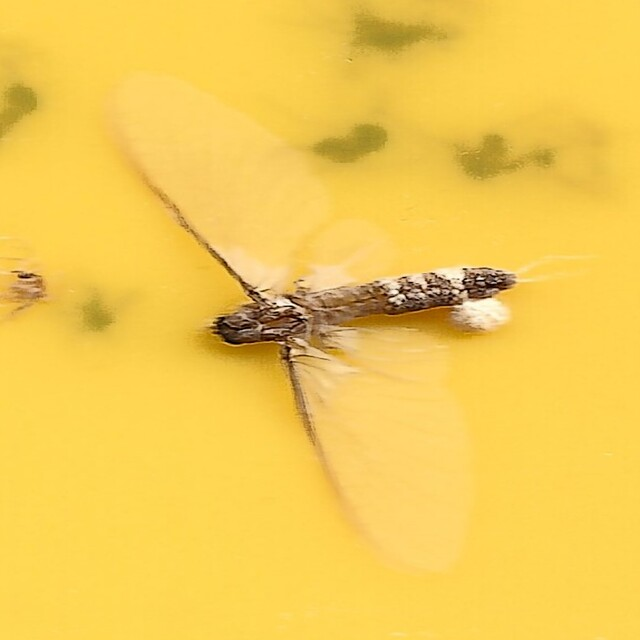Ephemeroptera: (111, 72, 529, 568)
